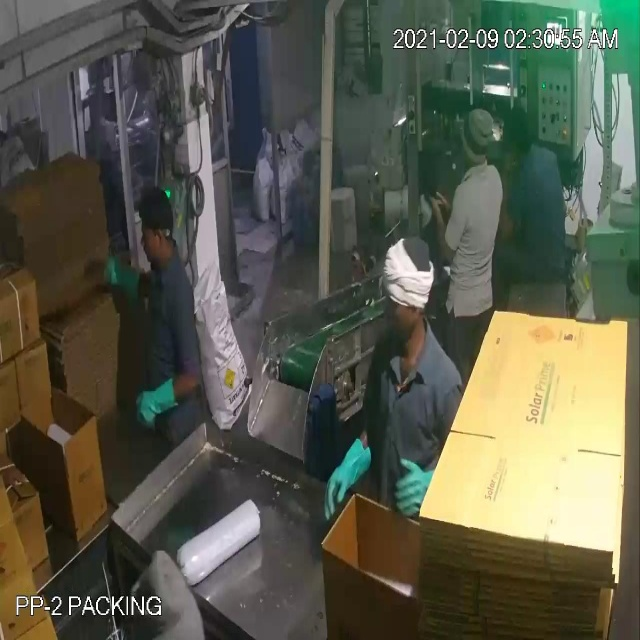Guantes: (315, 429, 376, 526), (387, 452, 443, 527), (126, 373, 193, 434), (92, 248, 150, 317)
Sin_guantes: (420, 183, 461, 270)
